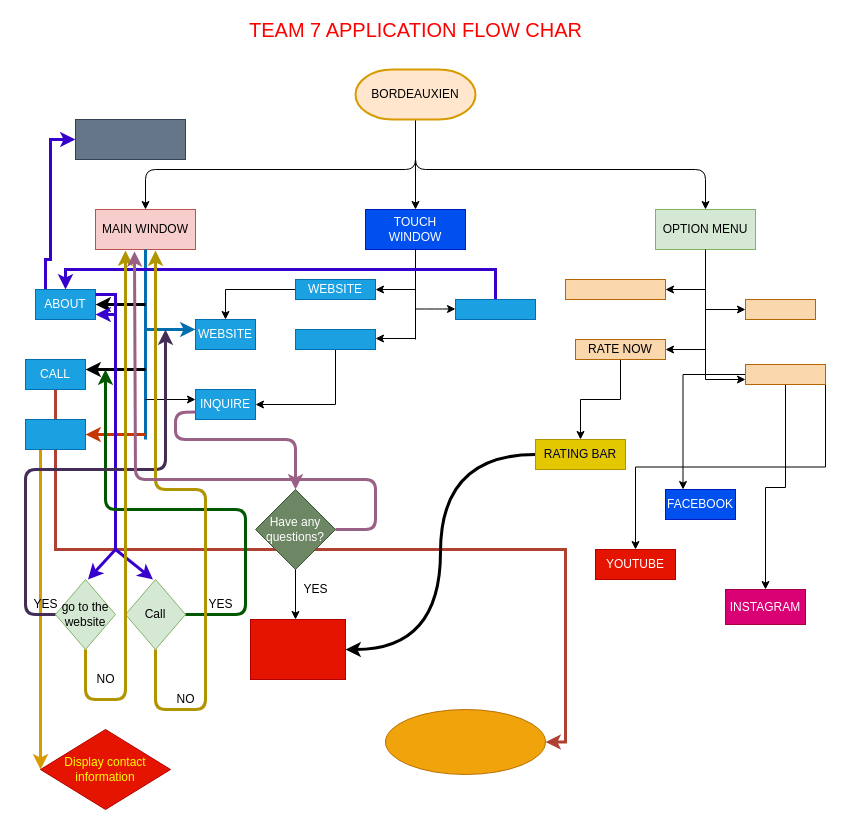
The diagram is 851 pixels wide and 827 high, and some of its shapes have lost their labels. The box of each missing label's shape, as (x1, y1, x2, y2) in pixels:
ABOUT US: (454, 298, 536, 320)
CONTACT: (24, 418, 86, 450)
Details will be entered and stored in Firebase: (250, 618, 346, 680)
Dial the restaurant number: (384, 708, 546, 774)
LOCATION: MAP: (74, 118, 186, 160)
NOTIFICATIONS: (564, 278, 666, 300)
ONE TOUCH: (294, 328, 376, 350)
SEARCH: (744, 298, 816, 320)
SHARE NOW: (744, 364, 826, 384)
